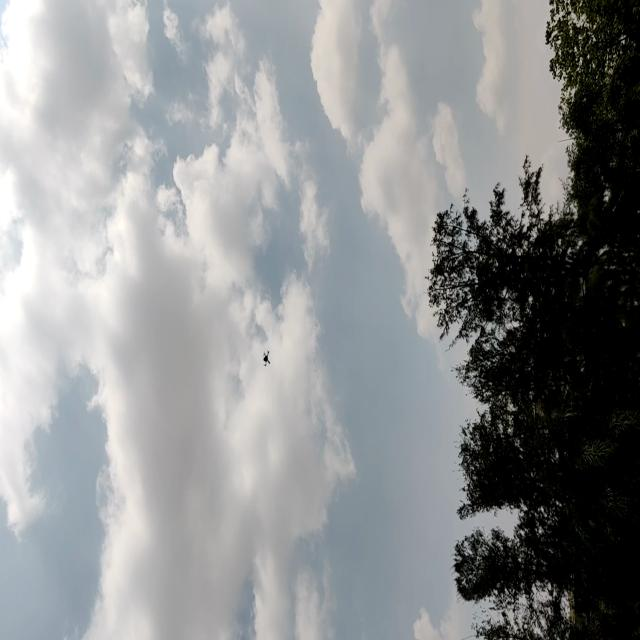drone: (258, 343, 274, 374)
